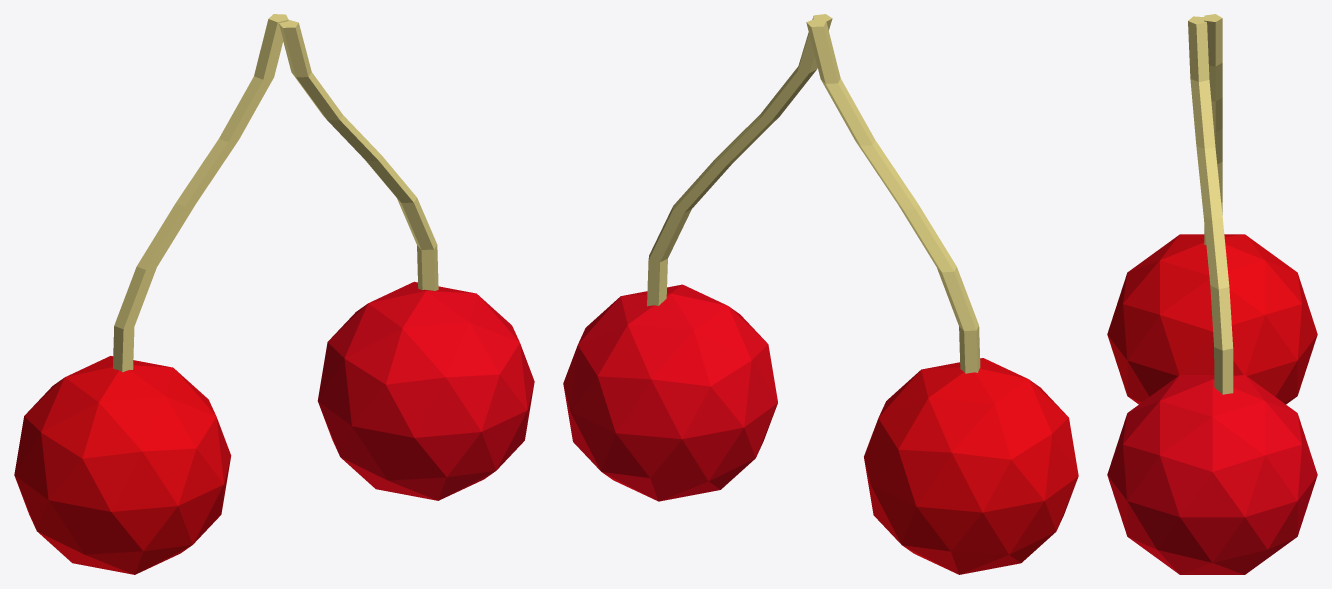
Rendered from kıraz.fbx.
The picture shows the model from 3 angles, left to right: view 1: azimuth 30°, elevation 25°; view 2: azimuth 150°, elevation 25°; view 3: azimuth 270°, elevation 25°; orthographic projection. The views are drawn at different scales.
Visible parts, largest first — view 1: Cylinder; view 2: Cylinder; view 3: Cylinder.
Boxes of the visible parts, x1,y1,x2,y2 form: Cylinder: (14, 14, 534, 574); Cylinder: (563, 14, 1078, 574); Cylinder: (1107, 14, 1317, 574).
Bounding box in the file's own units: 140 × 141 × 55.46.
